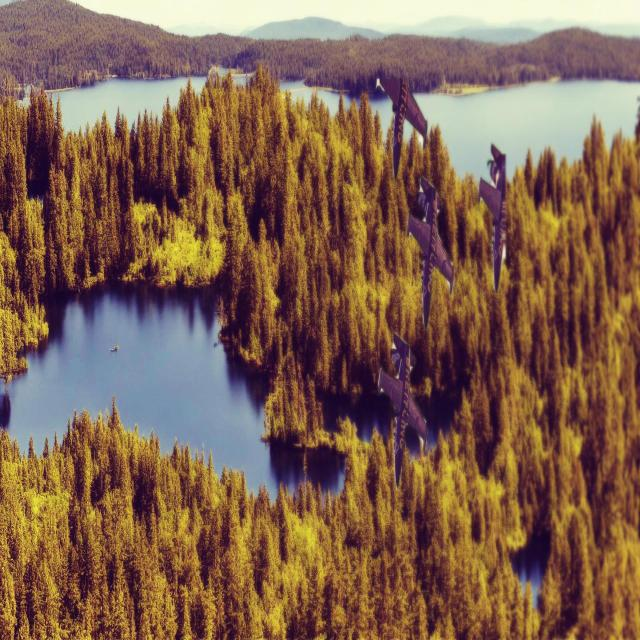airplane: (377, 332, 427, 489), (406, 176, 454, 330), (375, 74, 427, 180), (477, 142, 507, 292)
